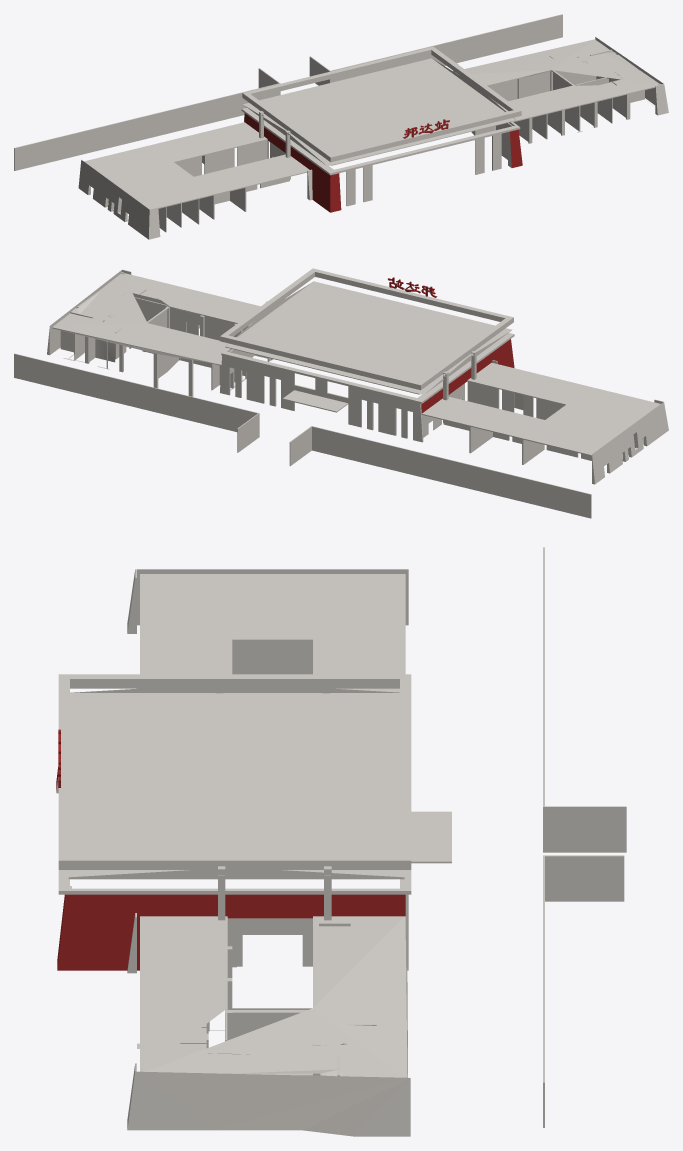
Rendered from outer-wall.fbx.
The picture shows the model from 3 angles, top to bottom: view 1: azimuth 30°, elevation 25°; view 2: azimuth 150°, elevation 25°; view 3: azimuth 270°, elevation 25°; orthographic projection. The views are drawn at different scales.
Visible parts, largest first — view 1: outer-wall; view 2: outer-wall; view 3: outer-wall.
Part boxes in pixels (x1,y1,x2,y2): outer-wall: (14, 14, 668, 239); outer-wall: (14, 268, 668, 518); outer-wall: (56, 547, 626, 1136).
Size of the model in its own units: 12144 by 1618 by 5447.
